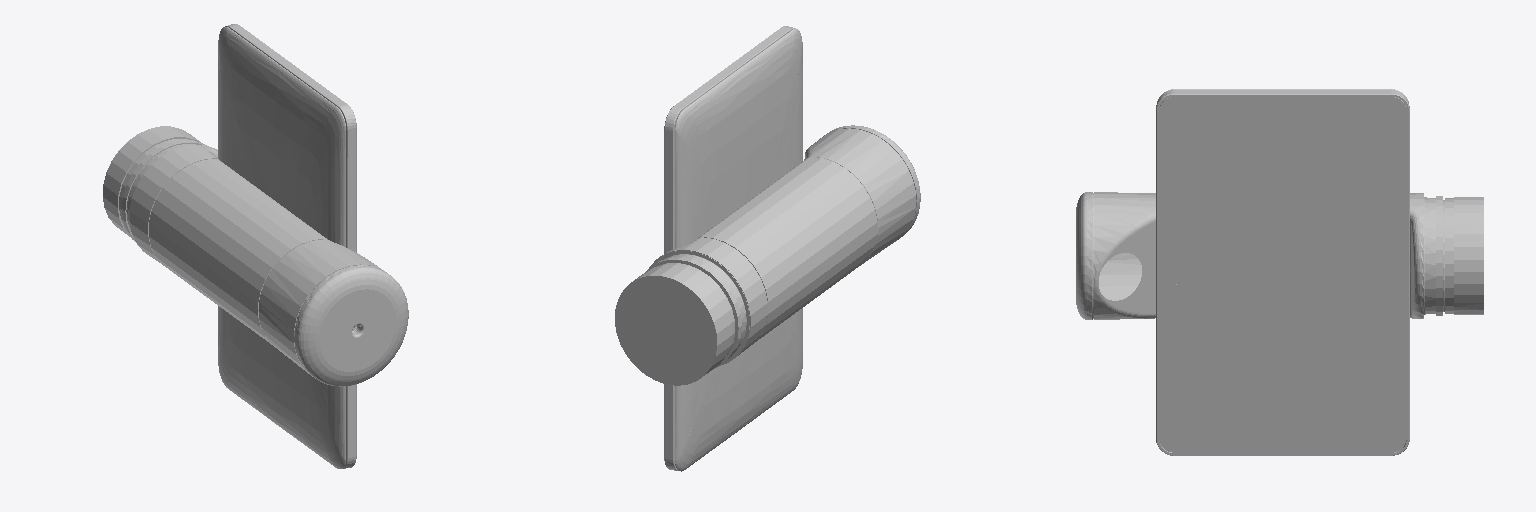
Rendered from head_visuals.obj.
3 views of the same model, side by side, from view 1: azimuth 30°, elevation 25°; view 2: azimuth 150°, elevation 25°; view 3: azimuth 270°, elevation 25° (orthographic).
Size of the model in its own units: 0.0819 by 0.256 by 0.2612.